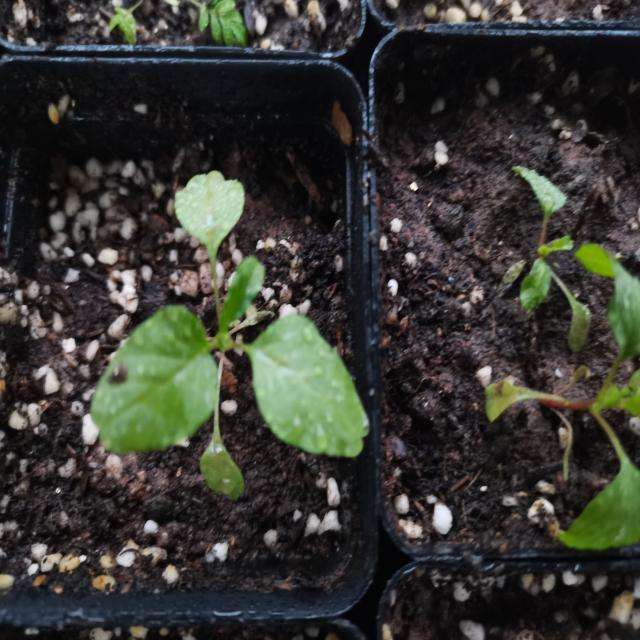pigweed: (96, 182, 356, 484)
